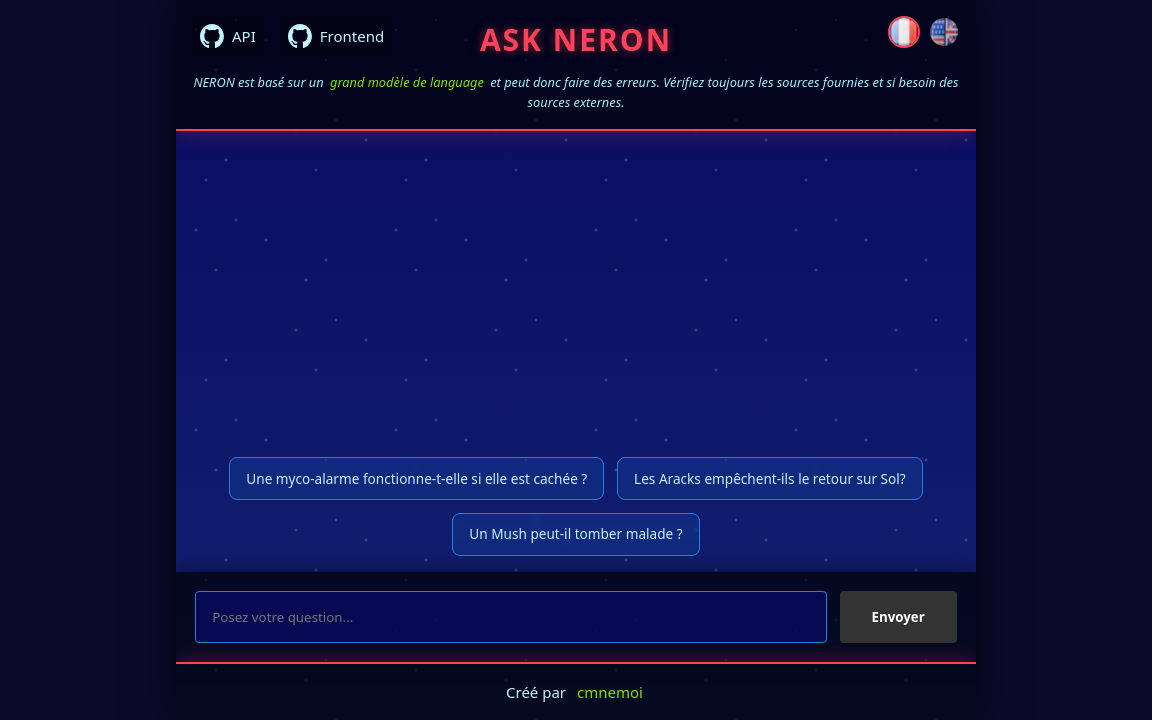
Test: ChatBot › displays user message immediately before waiting for chat service response
This screenshot has width=1152, height=720.
Type "Hello" into the field with placeholder "Posez votre question...".
click(511, 617); type("Hello")  # box left=195, top=591, right=827, bottom=643
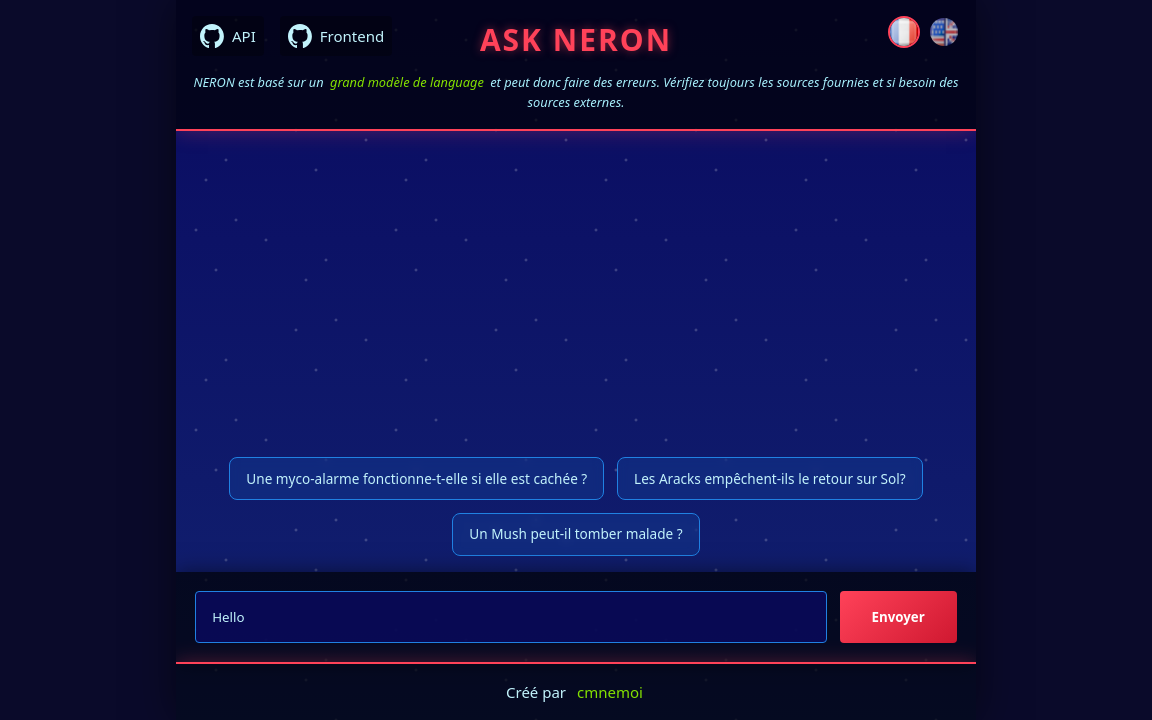
Click the button "Envoyer".
click(898, 617)  # box left=840, top=591, right=957, bottom=643
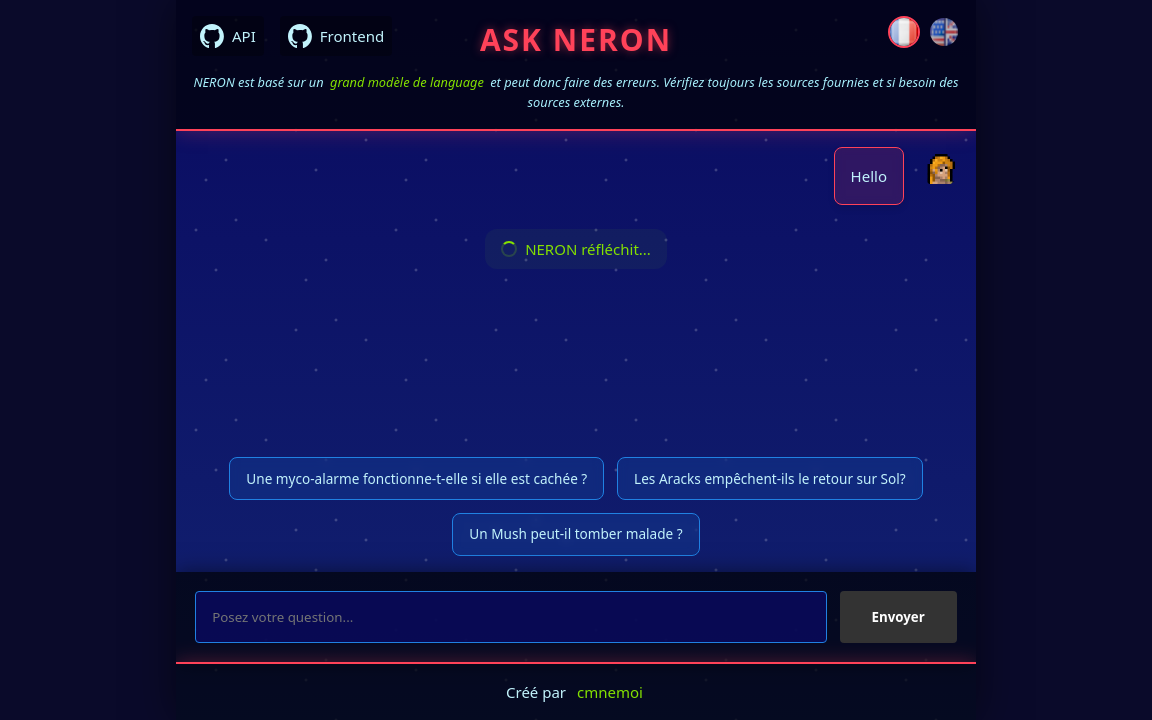
Expected: the number of elements with class "message" is 1, left=834, top=147, right=960, bottom=205
Expected: the element with class "message" reads "Hello", left=851, top=166, right=887, bottom=186
